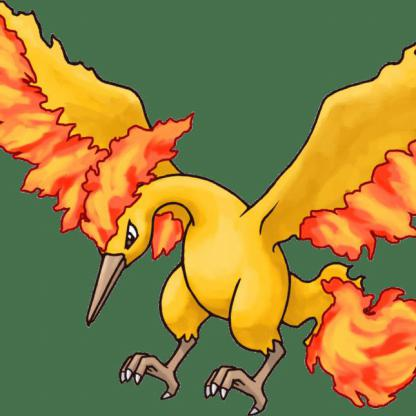Moltres: (1, 19, 416, 416)
